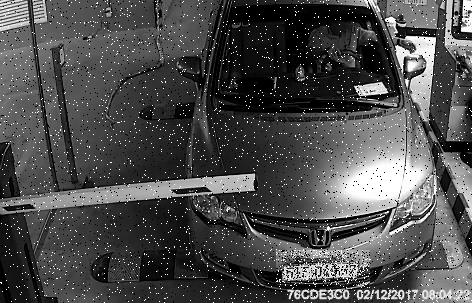License-plate: (277, 252, 371, 288)
